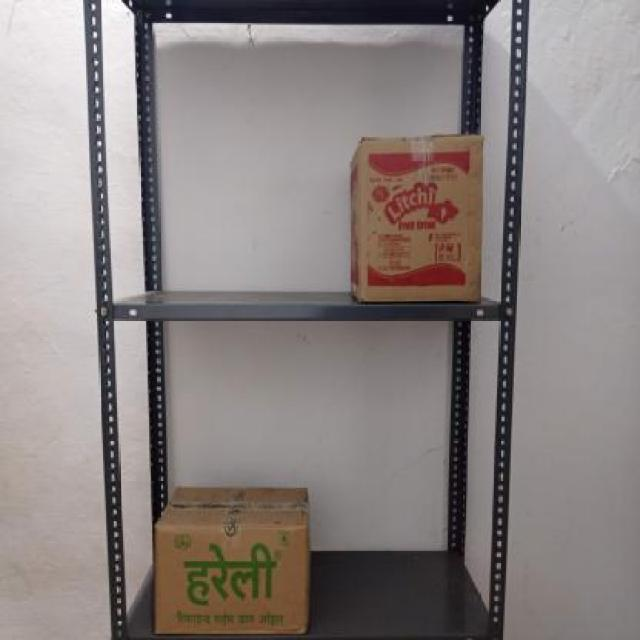box: (359, 138, 484, 304), (152, 522, 311, 633)
